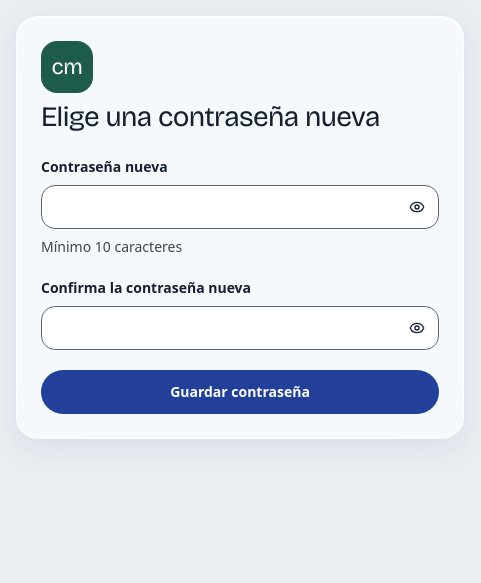
Test case: ataque (AUTH-02b r2): T-01, el token sale de la caché al asentarse la mutación › tras un fallo de red, sin salir de la pantalla, el token ya no está en la caché de mutaciones
Type "clave-nueva-de-ataque-2" into the password field labelled "Contraseña nueva" at (240, 208), box [41,186,439,230]
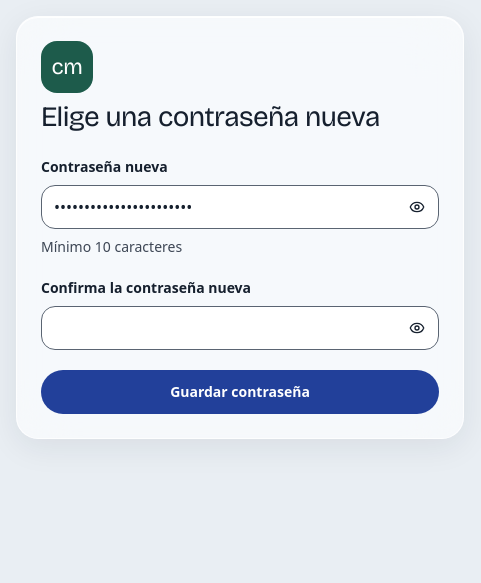
Type "clave-nueva-de-ataque-2" into the password field labelled "Confirma la contraseña nueva" at (240, 328), box [41,306,439,350]
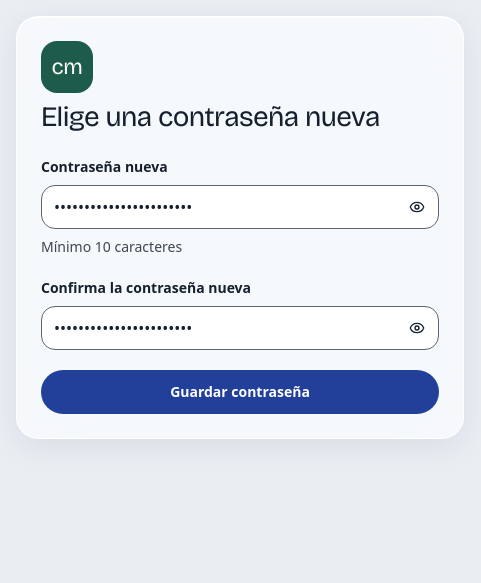
Click the button "Guardar contraseña" at (240, 392), box [41,370,439,414]
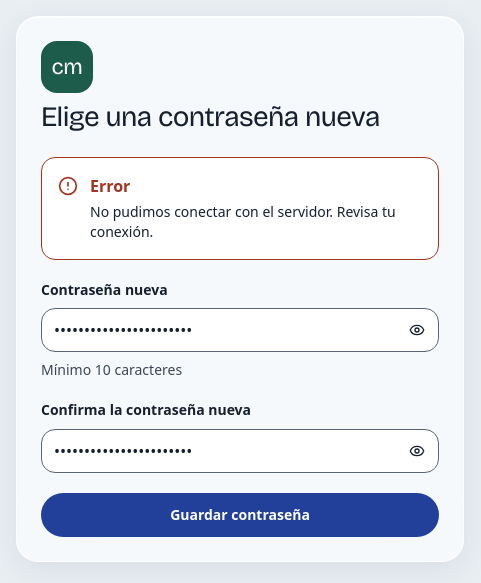
Now the message shows "No pudimos conectar", box [90,202,396,242]
